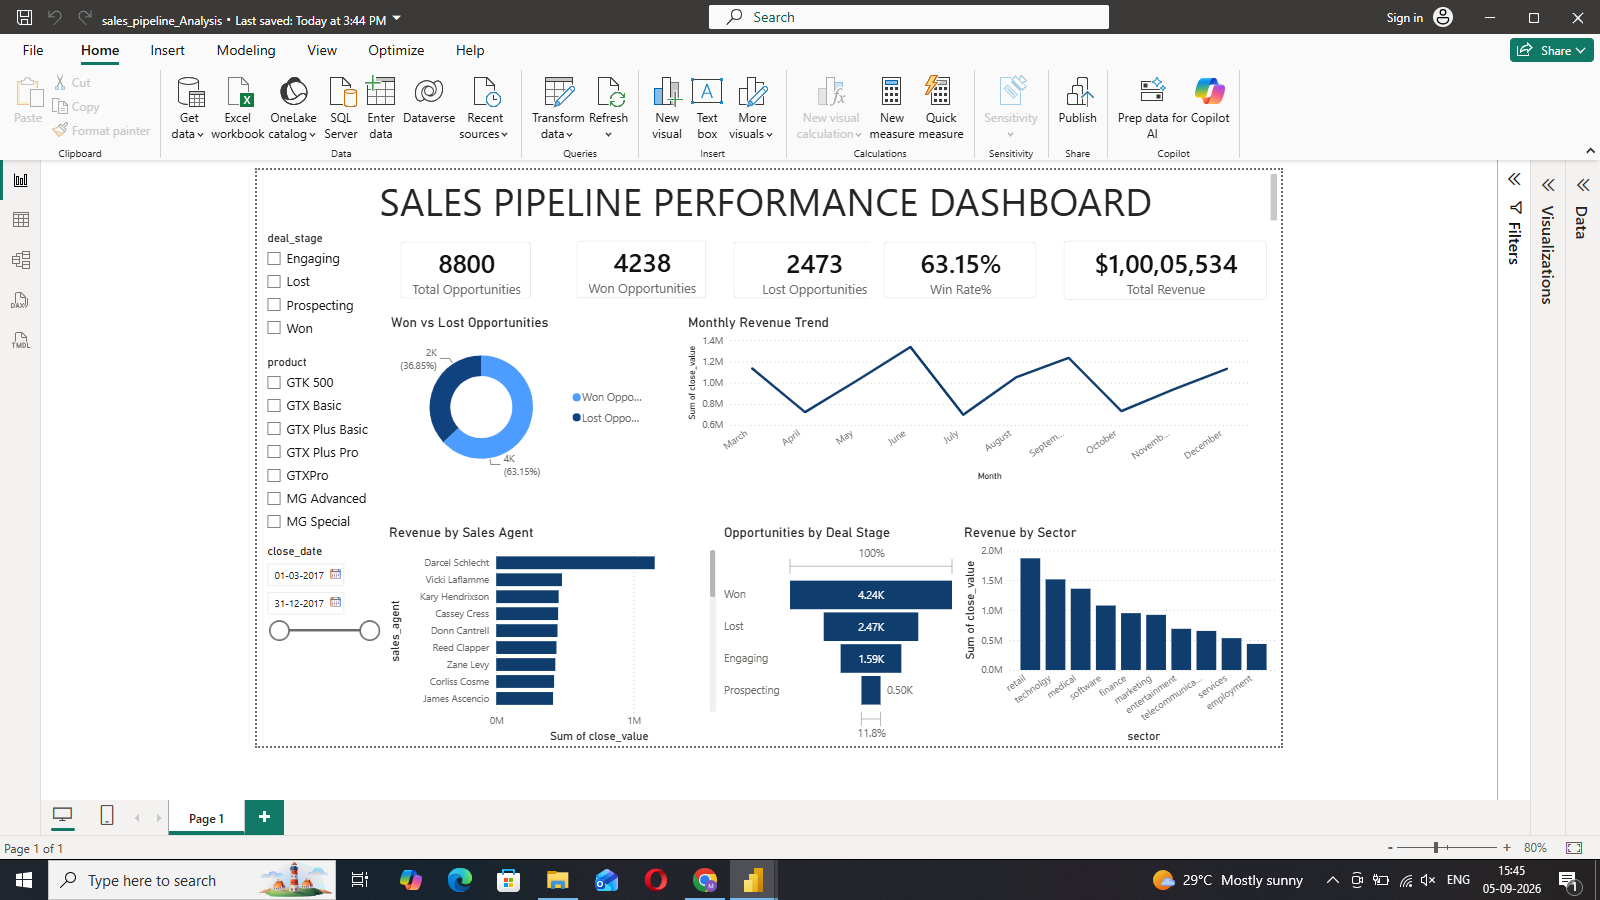

The page's visual inventory and layout, read from the dashboard file:
{"tool":"powerbi","page":{"name":"Page 1","canvas":[1280,720],"ordinal":0},"visuals":[{"type":"cardVisual","fields":{"Data":["sales_pipeline.Total Opportunities"]},"box":[162.5,72.5,197.5,105],"z":0},{"type":"cardVisual","fields":{"Data":["accounts.Won Opportunities"]},"box":[382.5,71.2,196.2,106.2],"z":1000},{"type":"cardVisual","fields":{"Data":["accounts.Lost Opportunities"]},"box":[578.8,72.5,235,105],"z":2000},{"type":"cardVisual","fields":{"Data":["accounts.Win Rate%"]},"box":[766.2,72.5,225,105],"z":3000},{"type":"cardVisual","fields":{"Data":["accounts.Total Revenue"]},"box":[991.2,71.2,288.8,108.8],"z":4000},{"type":"donutChart","title":"Won vs Lost Opportunities","fields":{"Y":["accounts.Won Opportunities","accounts.Lost Opportunities"]},"box":[162.5,180,333.8,213.8],"z":5000},{"type":"lineChart","title":"Monthly Revenue Trend","fields":{"Category":["sales_pipeline.close_date.Variation.Date Hierarchy.Month"],"Y":["Sum(sales_pipeline.close_value)"]},"box":[533.8,180,710,213.8],"z":6000},{"type":"clusteredBarChart","title":"Revenue by Sales Agent","fields":{"Category":["sales_pipeline.sales_agent"],"Y":["Sum(sales_pipeline.close_value)"]},"box":[160,442.5,418.8,277.5],"z":7000},{"type":"slicer","fields":{"Values":["sales_pipeline.deal_stage"]},"box":[0,72.5,162.5,155],"z":8000},{"type":"funnel","title":"Opportunities by Deal Stage","fields":{"Category":["sales_pipeline.deal_stage"],"Y":["CountNonNull(sales_pipeline.opportunity_id)"]},"box":[578.8,442.5,300,277.5],"z":9000},{"type":"slicer","fields":{"Values":["sales_pipeline.product"]},"box":[0,227.5,162.5,236.2],"z":10000},{"type":"clusteredColumnChart","title":"Revenue by Sector","fields":{"Category":["accounts.sector"],"Y":["Sum(sales_pipeline.close_value)"]},"box":[878.8,442.5,401.2,277.5],"z":11000},{"type":"slicer","fields":{"Values":["sales_pipeline.close_date"]},"box":[0,463.8,162.5,160],"z":12001},{"type":"textbox","box":[0,0,1280,71.2],"z":12002}]}

Visuals, with their boxes on the page's 1280x720 design canvas (x1, y1, x2, y2). These are canvas units, not pixel positions in the 1600x900 screenshot, which may show the page scaled, cropped or inside an application window:
cardVisual - sales_pipeline.Total Opportunities: region(162, 72, 360, 178)
cardVisual - accounts.Won Opportunities: region(382, 71, 579, 177)
cardVisual - accounts.Lost Opportunities: region(579, 72, 814, 178)
cardVisual - accounts.Win Rate%: region(766, 72, 991, 178)
cardVisual - accounts.Total Revenue: region(991, 71, 1280, 180)
"Won vs Lost Opportunities" donutChart: region(162, 180, 496, 394)
"Monthly Revenue Trend" lineChart: region(534, 180, 1244, 394)
"Revenue by Sales Agent" clusteredBarChart: region(160, 442, 579, 720)
slicer - sales_pipeline.deal_stage: region(0, 72, 162, 228)
"Opportunities by Deal Stage" funnel: region(579, 442, 879, 720)
slicer - sales_pipeline.product: region(0, 228, 162, 464)
"Revenue by Sector" clusteredColumnChart: region(879, 442, 1280, 720)
slicer - sales_pipeline.close_date: region(0, 464, 162, 624)
textbox: region(0, 0, 1280, 71)
